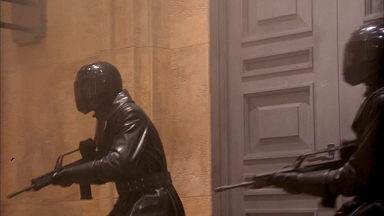firearm: (210, 137, 355, 211), (4, 141, 104, 203)
